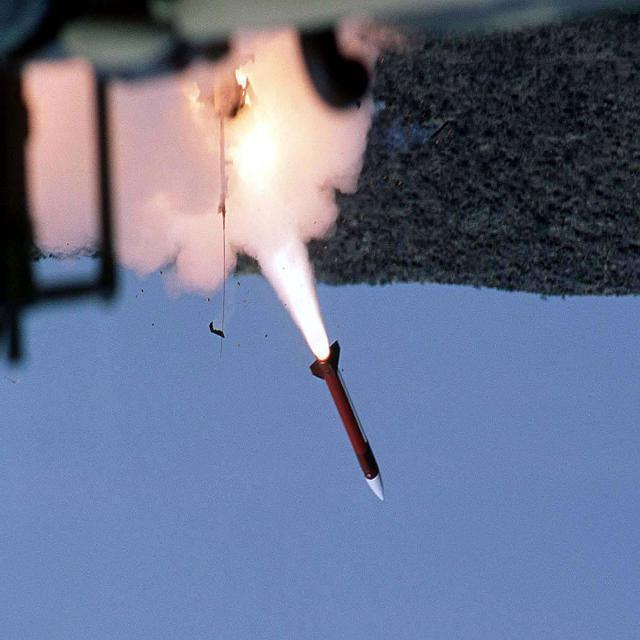missile: (307, 350, 387, 500)
